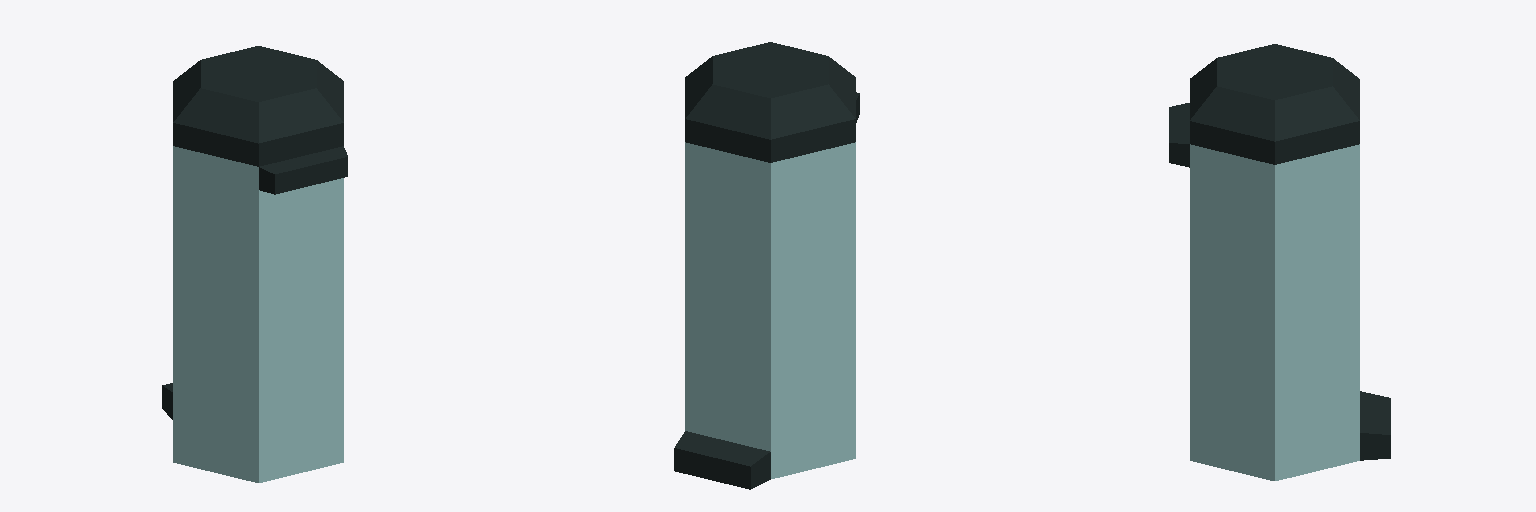
The model's file is trashcan.obj.
3 renders of one model, left to right at view 1: azimuth 30°, elevation 25°; view 2: azimuth 150°, elevation 25°; view 3: azimuth 270°, elevation 25°, orthographic.
Visible parts, largest first — view 1: trashcan; view 2: trashcan; view 3: trashcan.
Part boxes in pixels (left/top/right/bottom): trashcan: left=162, top=46, right=347, bottom=482; trashcan: left=674, top=42, right=859, bottom=489; trashcan: left=1169, top=44, right=1390, bottom=480.
Size of the model in its own units: 2.08 by 4.28 by 2.34.